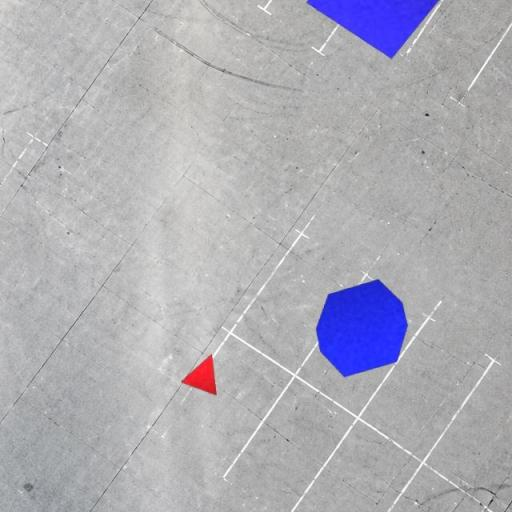BLUE_SQUARE: (306, 0, 458, 59)
